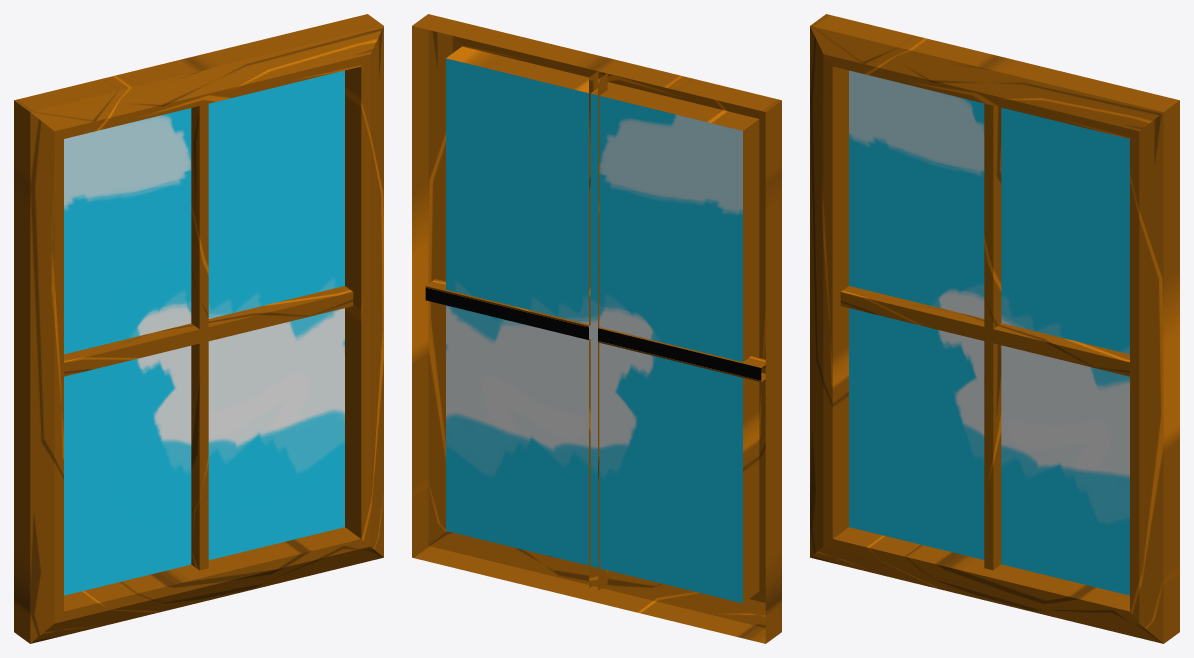
Rendered from window.FBX.
3 renders of one model, left to right at view 1: azimuth 30°, elevation 25°; view 2: azimuth 150°, elevation 25°; view 3: azimuth 330°, elevation 25°, orthographic.
Parts seen in each view (by area): view 1: Window; view 2: Window; view 3: Window.
Boxes of the visible parts, left/top/right/bottom form: Window: left=14, top=14, right=383, bottom=643; Window: left=412, top=14, right=781, bottom=643; Window: left=810, top=14, right=1179, bottom=643.
Size of the model in its own units: 3.75 by 5.38 by 0.4.
1 material, 1 textured.
